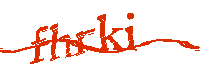f: (30, 24, 48, 63)
h: (50, 24, 70, 60)
i: (126, 11, 140, 52)
k: (97, 13, 124, 53)
r: (75, 27, 94, 56)
